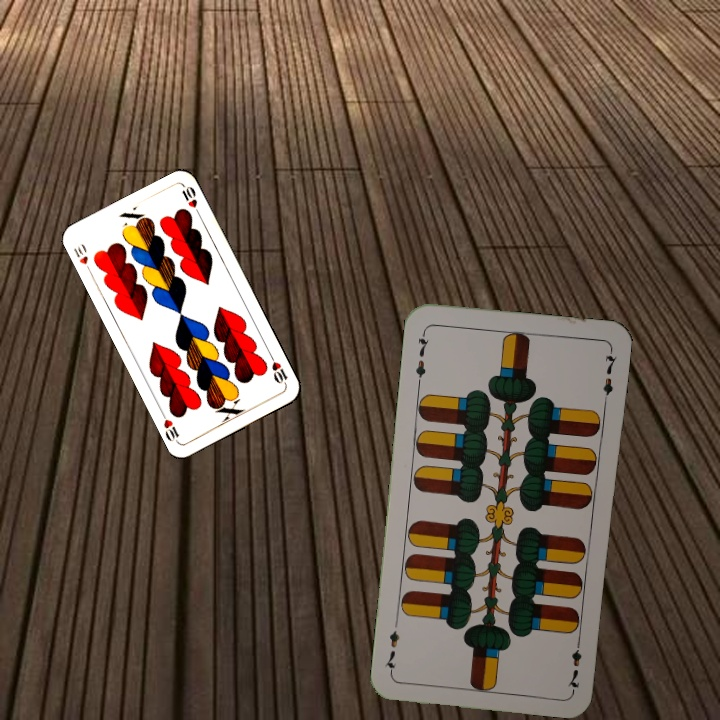E7: (411, 327, 432, 386), (564, 633, 584, 693)
H10: (265, 351, 290, 389), (69, 239, 94, 276)
